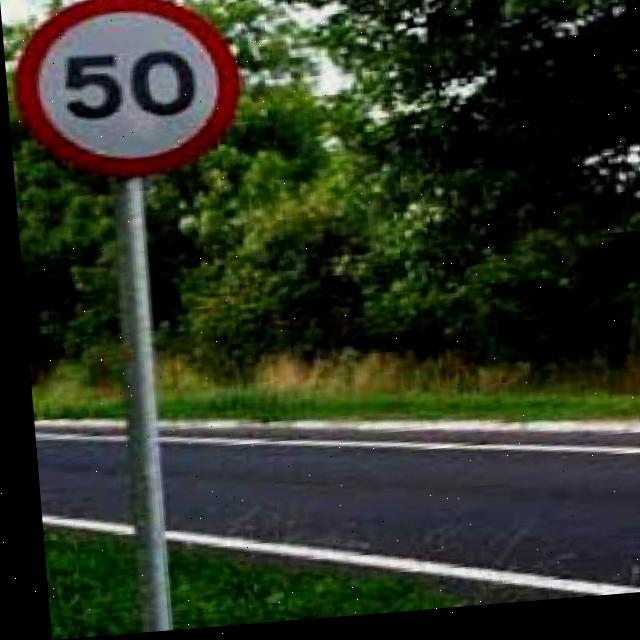Speed limit 50: (6, 1, 247, 188)
